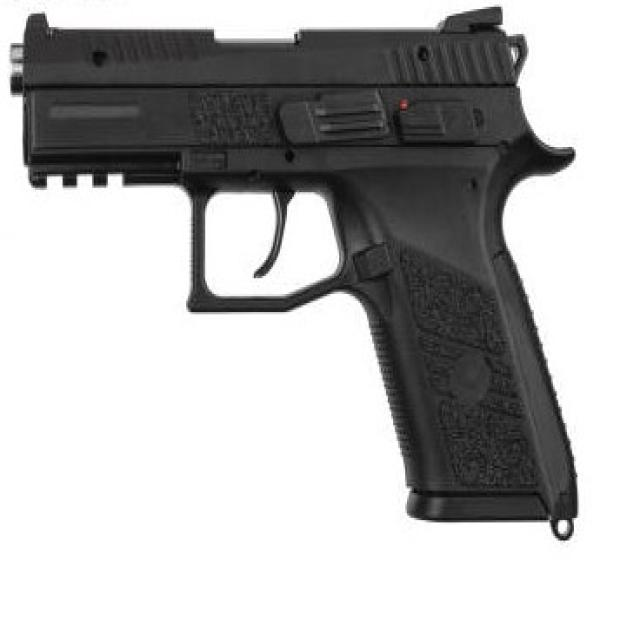pistol: (1, 1, 593, 549)
